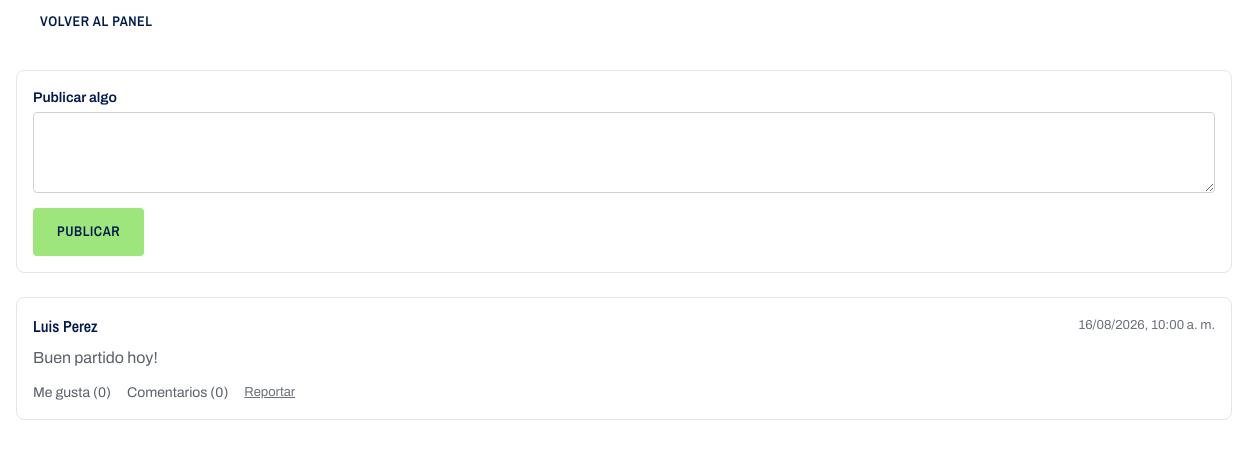
Test: CommunityPage › reports a post with an optional reason
This screenshot has width=1249, height=468.
Click the button "Reportar" at {"x": 270, "y": 392}, box [244,383,295,402]
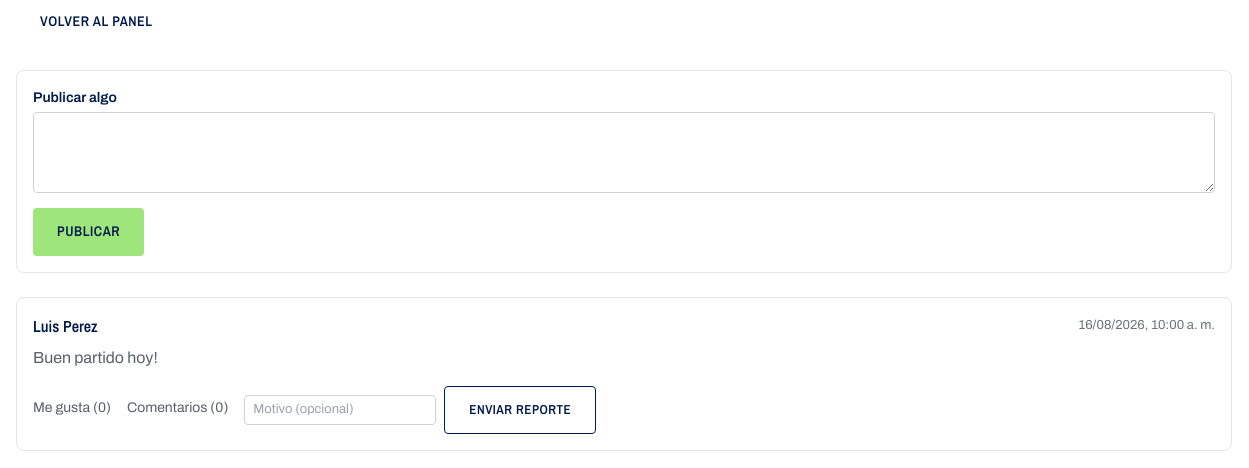
Type "Contenido inapropiado" into the field with placeholder "Motivo (opcional)" at {"x": 340, "y": 410}, box [244,395,436,425]
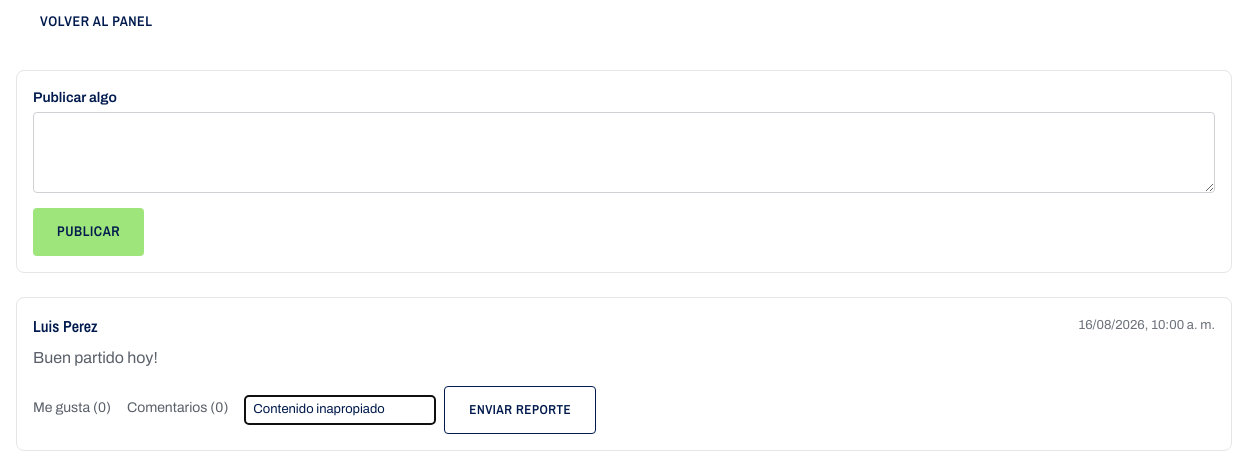
Click the button "Enviar reporte" at {"x": 520, "y": 410}, box [444,386,596,434]
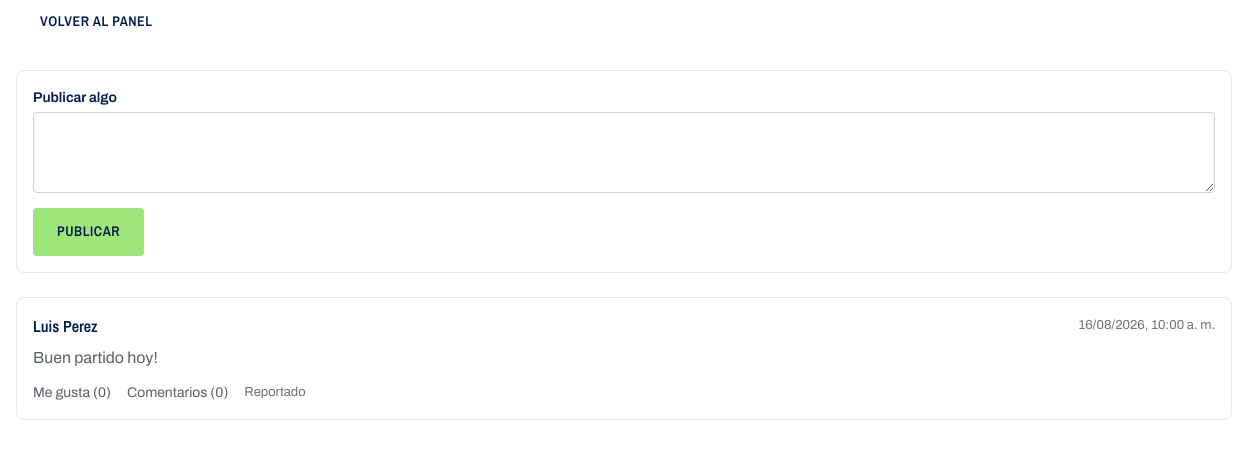
Expected: the text "Reportado" is shown, [244,383,306,402]
